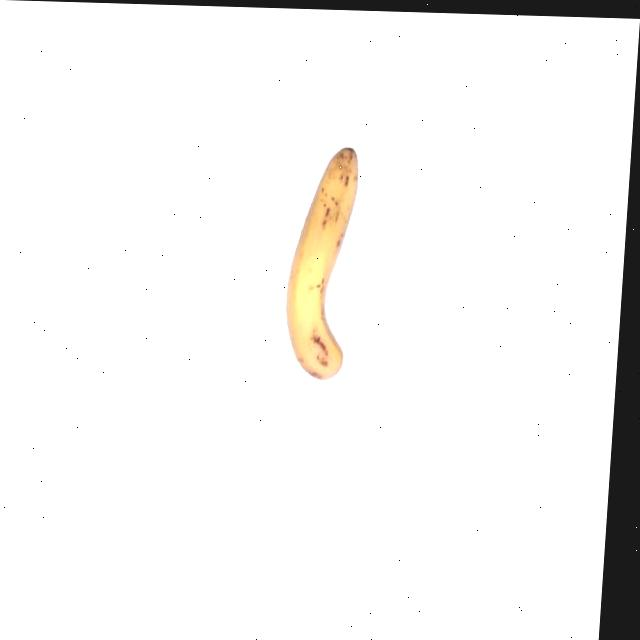banana: (278, 142, 366, 385)
